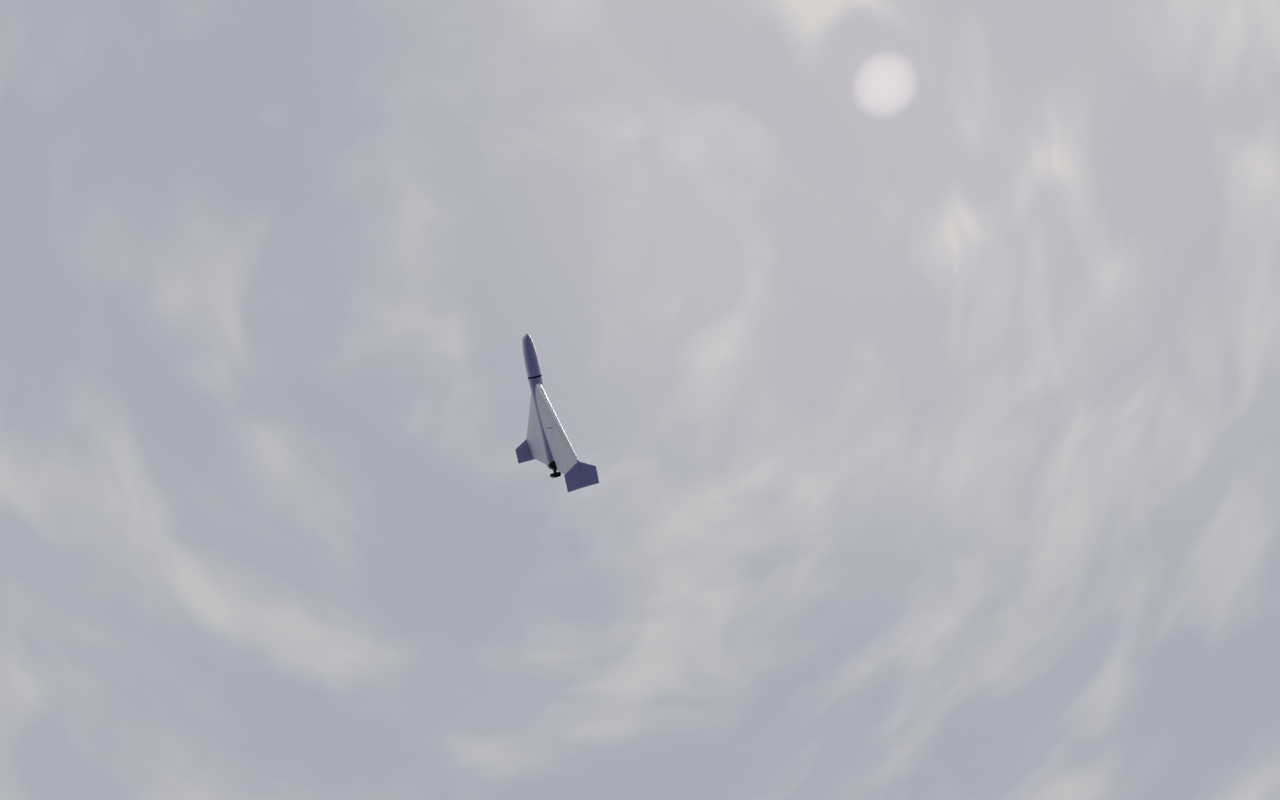shahed: (515, 334, 601, 494)
